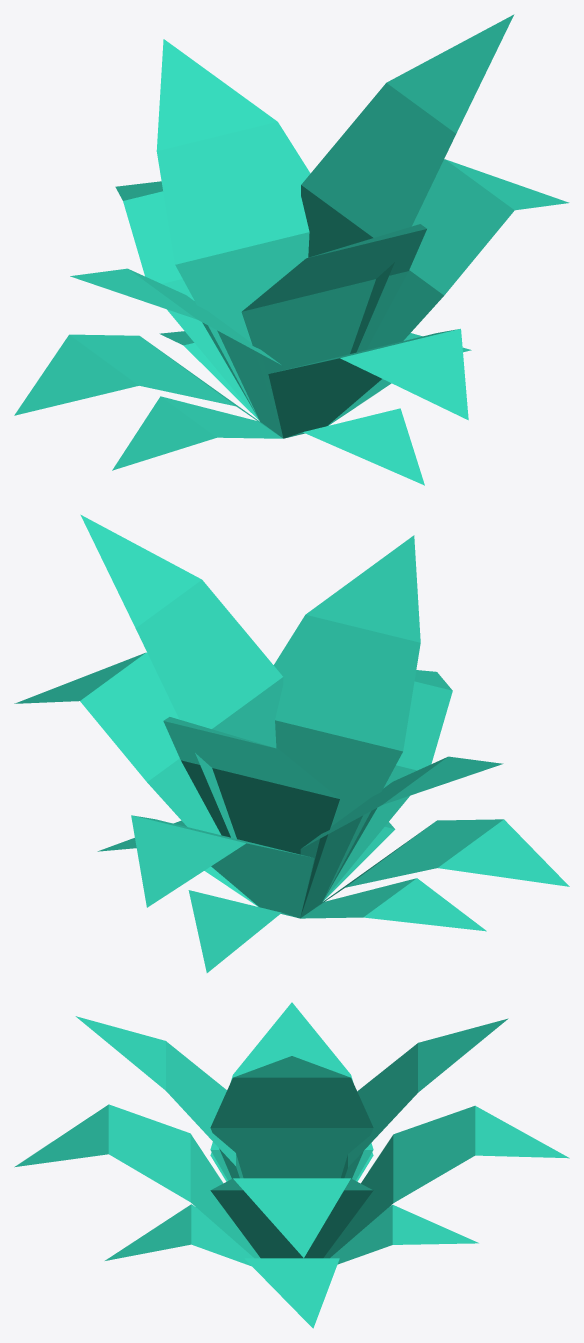
Rendered from plant_bushDetailed.obj.
3 views of the same model, one above another, from view 1: azimuth 30°, elevation 25°; view 2: azimuth 150°, elevation 25°; view 3: azimuth 270°, elevation 25° (orthographic). The views are drawn at different scales.
Parts seen in each view (by area): view 1: Mesh plant_bushDetailed; view 2: Mesh plant_bushDetailed; view 3: Mesh plant_bushDetailed.
Part boxes in pixels (<box>): Mesh plant_bushDetailed: <box>14,14,569,485</box>; Mesh plant_bushDetailed: <box>14,514,569,972</box>; Mesh plant_bushDetailed: <box>14,1002,569,1328</box>.
Size of the model in its own units: 0.6025 by 0.3604 by 0.6025.
